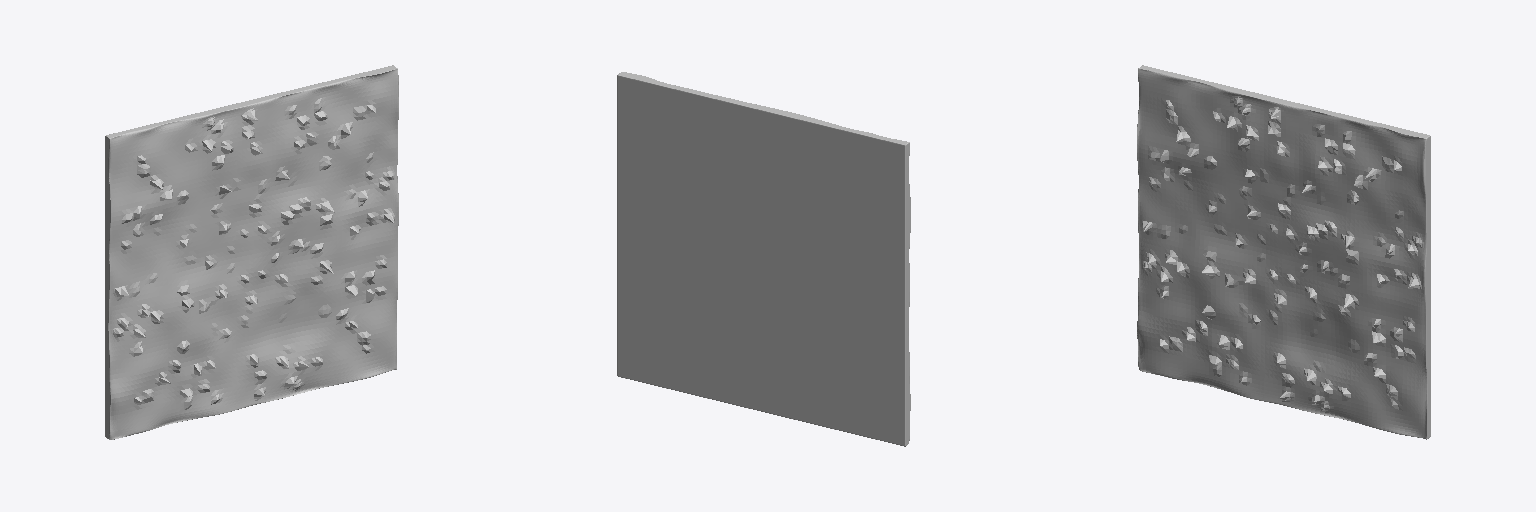
File: floor.obj
3 views of the same model, side by side, from view 1: azimuth 30°, elevation 25°; view 2: azimuth 150°, elevation 25°; view 3: azimuth 330°, elevation 25° (orthographic).
Visible parts, largest first — view 1: 10450_Rectangular_Grass_Patch_v1; view 2: 10450_Rectangular_Grass_Patch_v1; view 3: 10450_Rectangular_Grass_Patch_v1.
Boxes of the visible parts, x1=… form: 10450_Rectangular_Grass_Patch_v1: x1=105, y1=65, x2=398, y2=439; 10450_Rectangular_Grass_Patch_v1: x1=617, y1=72, x2=910, y2=446; 10450_Rectangular_Grass_Patch_v1: x1=1137, y1=65, x2=1430, y2=439.
Bounding box in the file's own units: 300 × 300 × 24.46.